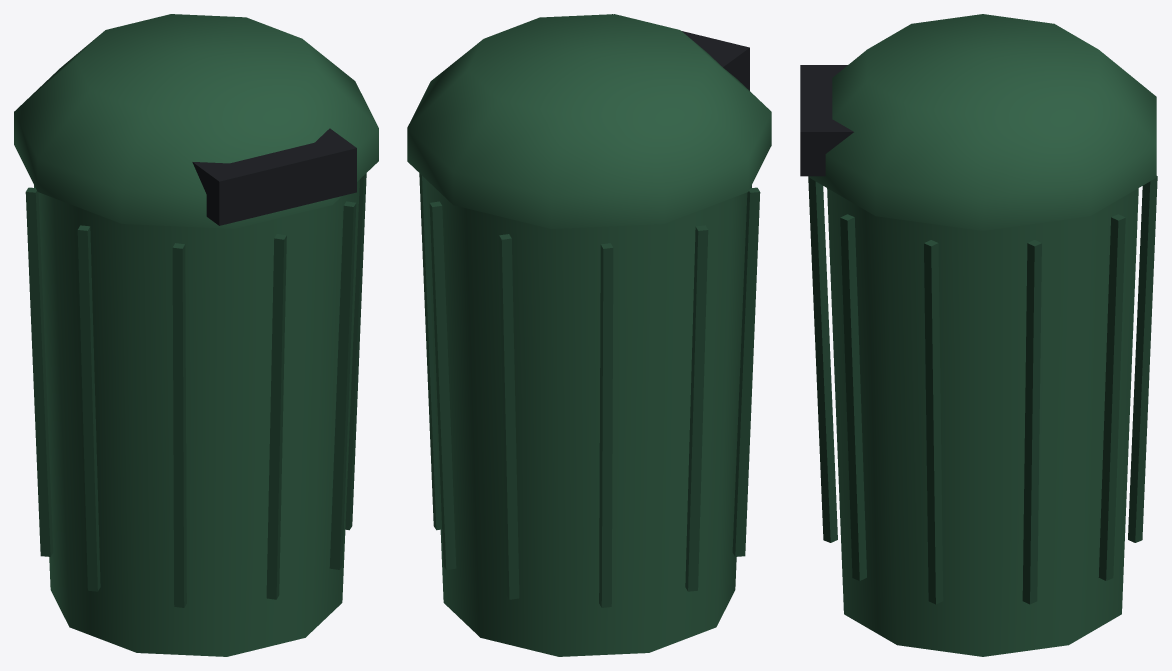
File: trash_bin.glb
The picture shows the model from 3 angles, left to right: view 1: azimuth 30°, elevation 25°; view 2: azimuth 150°, elevation 25°; view 3: azimuth 270°, elevation 25°; orthographic projection.
Parts seen in each view (by area): view 1: trash_bin; view 2: trash_bin; view 3: trash_bin.
Boxes of the visible parts, x1,y1,x2,y2 form: trash_bin: (14, 14, 378, 656); trash_bin: (407, 14, 771, 656); trash_bin: (800, 14, 1157, 656).
Size of the model in its own units: 0.6 by 0.98 by 0.587.
